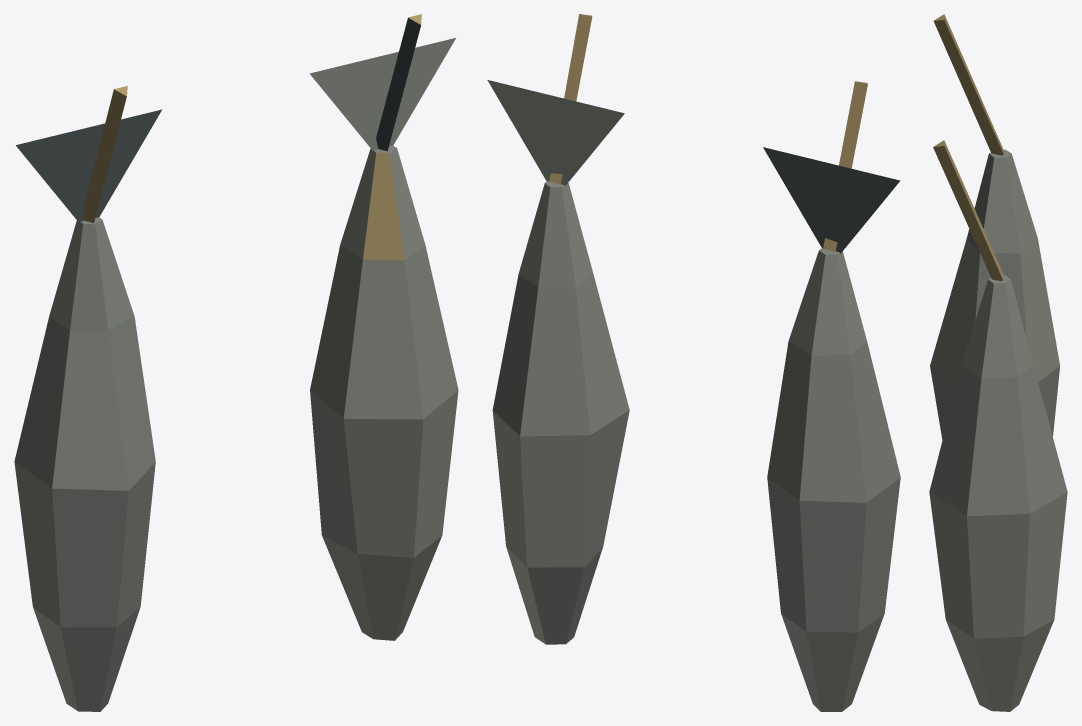
File: drying_rack_pesce.glb
3 views of the same model, side by side, from view 1: azimuth 30°, elevation 25°; view 2: azimuth 150°, elevation 25°; view 3: azimuth 270°, elevation 25° (orthographic). The views are drawn at different scales.
Visible parts, largest first — view 1: drying_rack_pesce; view 2: drying_rack_pesce; view 3: drying_rack_pesce.
Part boxes in pixels (<box>): drying_rack_pesce: <box>14,14,458,711</box>; drying_rack_pesce: <box>487,14,900,711</box>; drying_rack_pesce: <box>929,14,1067,711</box>.
Size of the model in its own units: 0.6 by 0.8318 by 0.1856.
